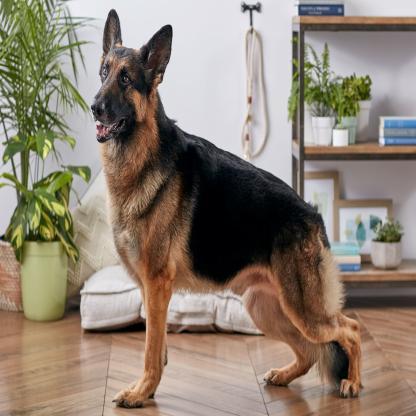german shepherd: (94, 14, 361, 414)
